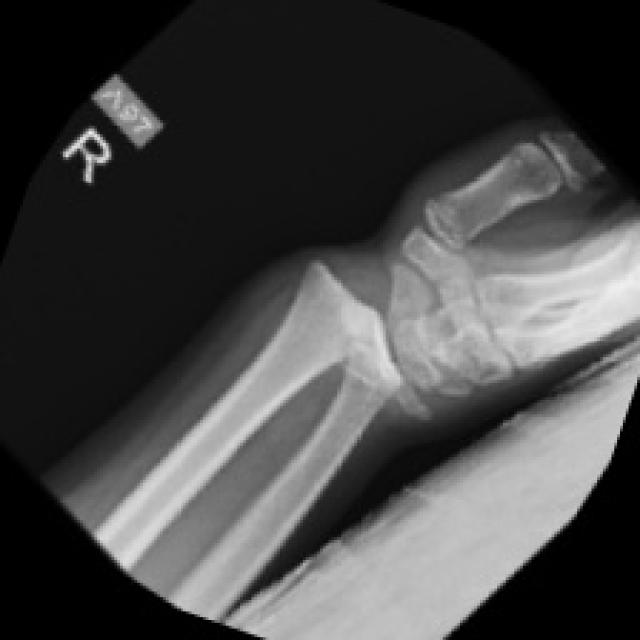fracture: (246, 158, 502, 403)
